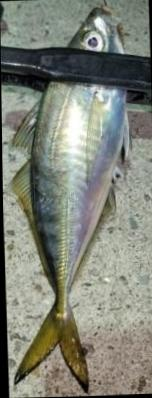fish: (3, 9, 130, 393)
